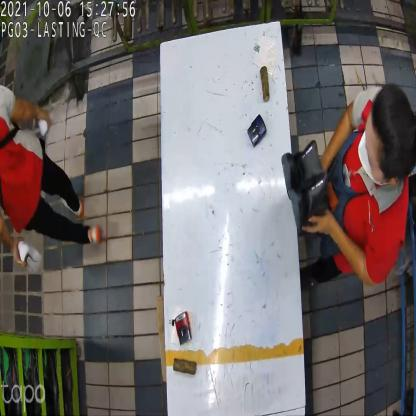shoes: (280, 140, 328, 242)
stamp: (172, 313, 196, 345), (248, 112, 268, 147)
